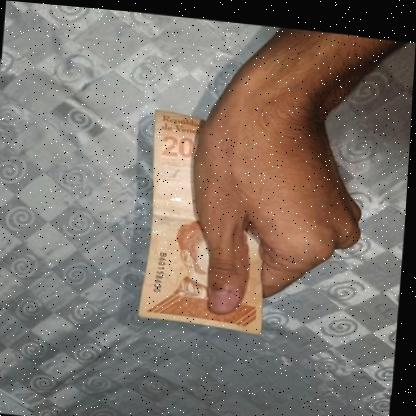twenty-front-vef: (141, 105, 278, 328)
